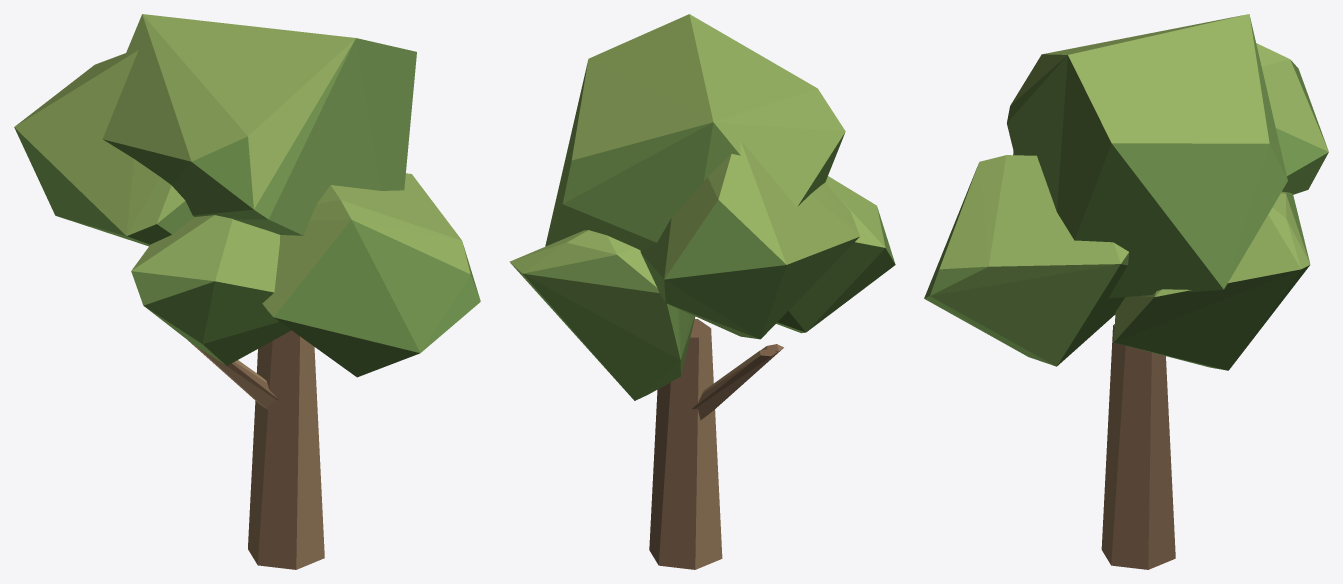
Rendered from Oak_1.glb.
The picture shows the model from 3 angles, left to right: view 1: azimuth 30°, elevation 25°; view 2: azimuth 150°, elevation 25°; view 3: azimuth 270°, elevation 25°; orthographic projection. The views are drawn at different scales.
Parts seen in each view (by area): view 1: Oak_1; view 2: Oak_1; view 3: Oak_1.
Boxes of the visible parts, x1=… form: Oak_1: x1=14, y1=14, x2=480, y2=569; Oak_1: x1=509, y1=14, x2=895, y2=569; Oak_1: x1=924, y1=14, x2=1328, y2=569.
Bounding box in the file's own units: 0.5302 × 0.8852 × 0.6311.
